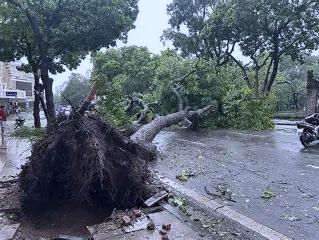ROAD_OBSTACLE: (10, 100, 240, 240)
